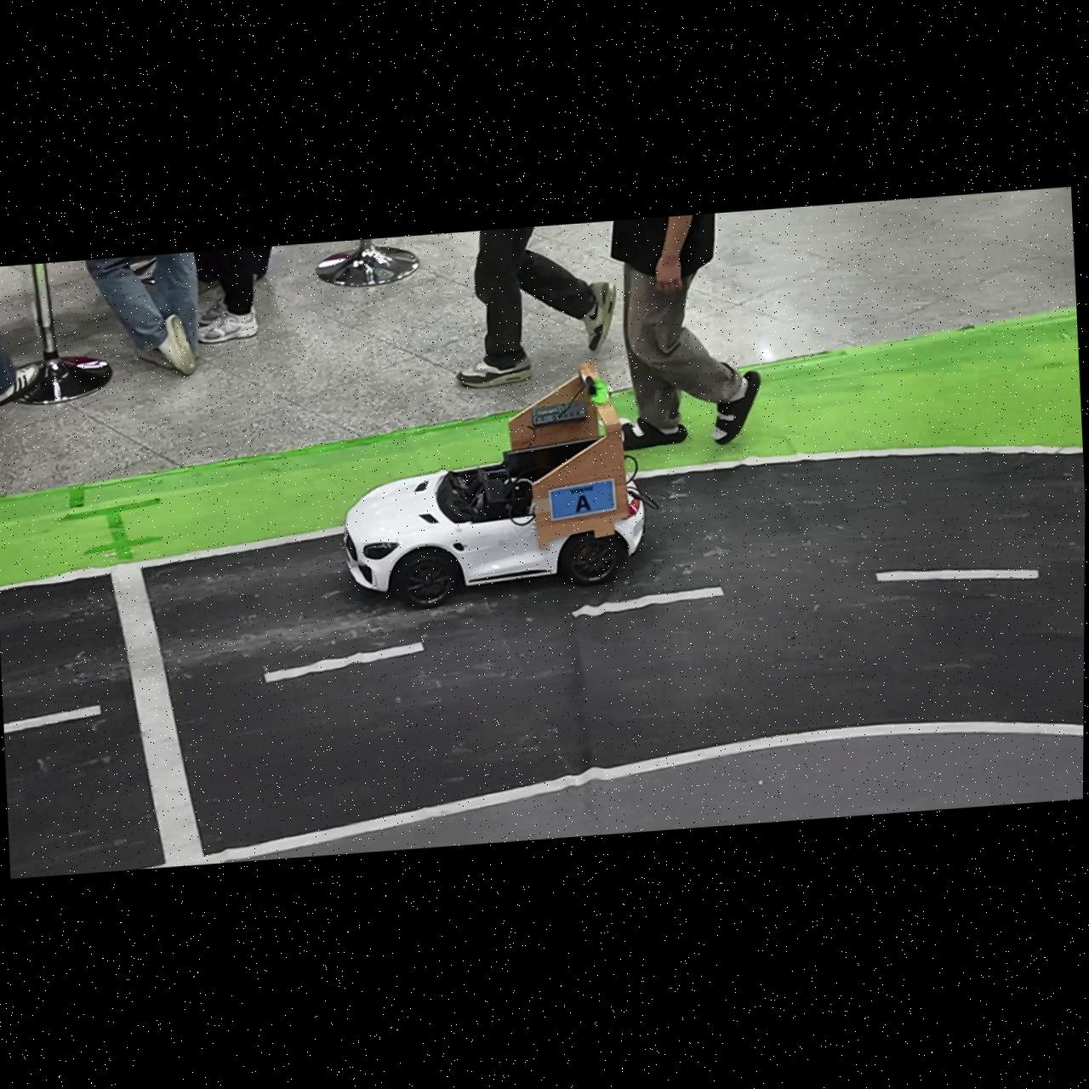broken_line: (264, 642, 424, 682), (571, 586, 723, 617), (3, 704, 101, 733), (875, 569, 1038, 581)
